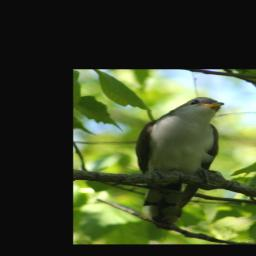Cuckoo: (134, 97, 225, 229)
